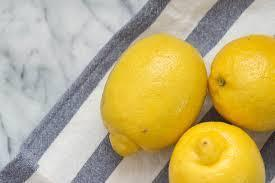lemon: (100, 33, 208, 156), (207, 34, 275, 132), (168, 121, 265, 183)
